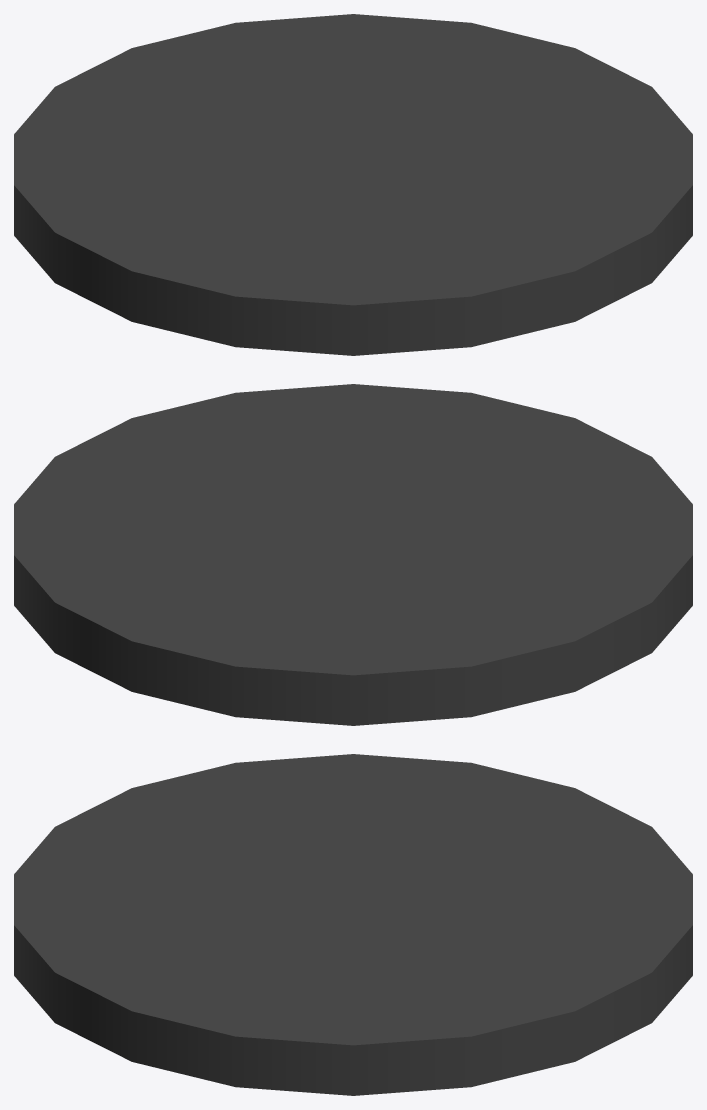
Rendered from dai.fbx.
3 views of the same model, one above another, from view 1: azimuth 30°, elevation 25°; view 2: azimuth 150°, elevation 25°; view 3: azimuth 270°, elevation 25° (orthographic).
Visible parts, largest first — view 1: Cylinder001; view 2: Cylinder001; view 3: Cylinder001.
Part boxes in pixels (x1=…): Cylinder001: x1=14, y1=14, x2=692, y2=355; Cylinder001: x1=14, y1=384, x2=692, y2=725; Cylinder001: x1=14, y1=754, x2=692, y2=1095.
Size of the model in its own units: 209 by 206 by 16.95.
